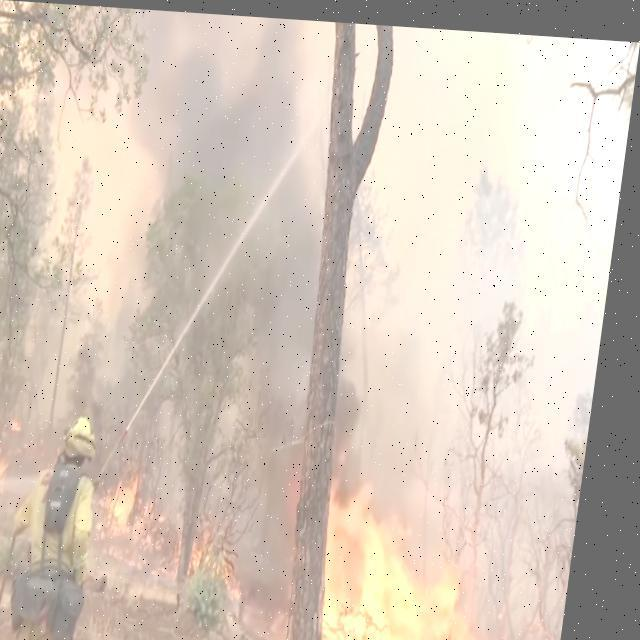Fire: (321, 465, 568, 639), (104, 458, 273, 610), (0, 438, 27, 501), (20, 408, 36, 430)
